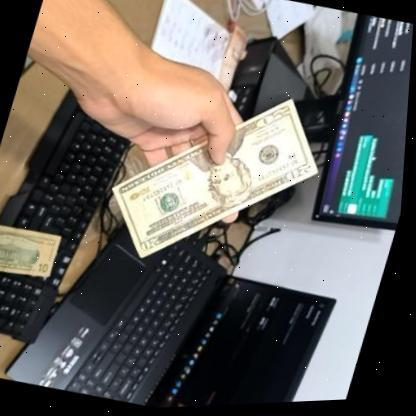ten-back: (0, 214, 69, 288)
twenty-front: (93, 66, 343, 300)
